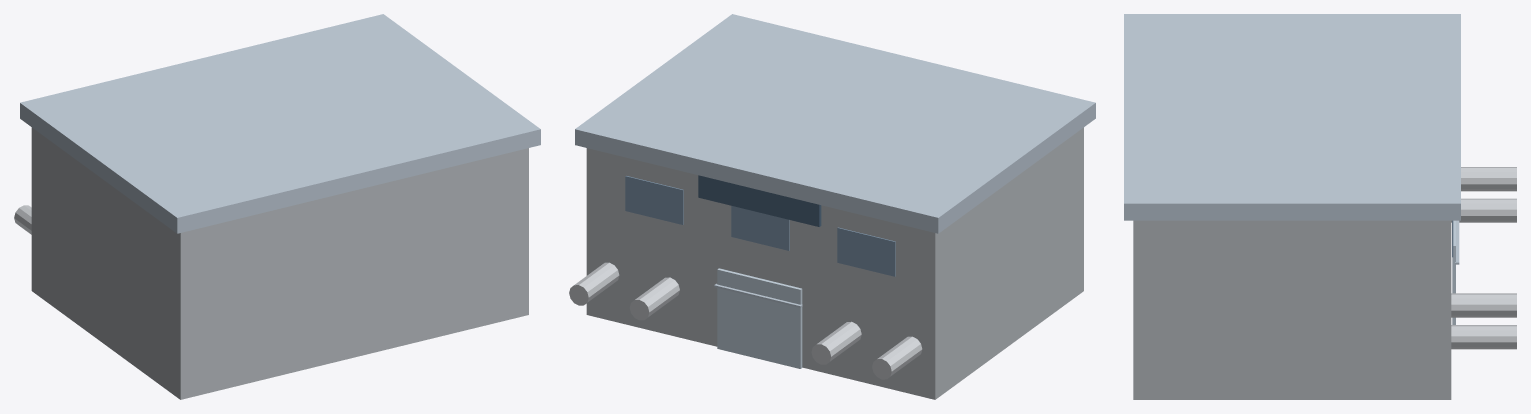
Rendered from banco_central.glb.
3 renders of one model, left to right at view 1: azimuth 30°, elevation 25°; view 2: azimuth 150°, elevation 25°; view 3: azimuth 270°, elevation 25°, orthographic. The views are drawn at different scales.
Visible parts, largest first — view 1: BankBuilding_1, BankRoof_2; view 2: BankRoof_2, BankBuilding_1, GlassEntrance_3, BankSignPlate_12, UpperWindow_9, UpperWindow_11, UpperWindow_10, StoneColumn_5, StoneColumn_8, StoneColumn_7, StoneColumn_6; view 3: BankRoof_2, BankBuilding_1, StoneColumn_7, StoneColumn_8, StoneColumn_6, StoneColumn_5.
Boxes of the visible parts, left/top/right/bottom form: BankBuilding_1: left=31, top=127, right=528, bottom=399; BankRoof_2: left=20, top=14, right=540, bottom=233; BankRoof_2: left=575, top=14, right=1095, bottom=233; BankBuilding_1: left=586, top=127, right=1083, bottom=399; GlassEntrance_3: left=717, top=268, right=802, bottom=368; BankSignPlate_12: left=698, top=175, right=821, bottom=226; UpperWindow_9: left=837, top=227, right=895, bottom=276; UpperWindow_11: left=625, top=176, right=683, bottom=224; UpperWindow_10: left=731, top=206, right=789, bottom=250; StoneColumn_5: left=872, top=336, right=922, bottom=379; StoneColumn_8: left=569, top=262, right=619, bottom=305; StoneColumn_7: left=629, top=277, right=679, bottom=320; StoneColumn_6: left=811, top=321, right=861, bottom=364; BankRoof_2: left=1124, top=14, right=1460, bottom=220; BankBuilding_1: left=1133, top=220, right=1451, bottom=399; StoneColumn_7: left=1451, top=293, right=1516, bottom=317; StoneColumn_8: left=1451, top=325, right=1516, bottom=349; StoneColumn_6: left=1451, top=198, right=1516, bottom=222; StoneColumn_5: left=1461, top=167, right=1516, bottom=191.
Bounding box in the file's own units: 24 × 11.8 × 21.
